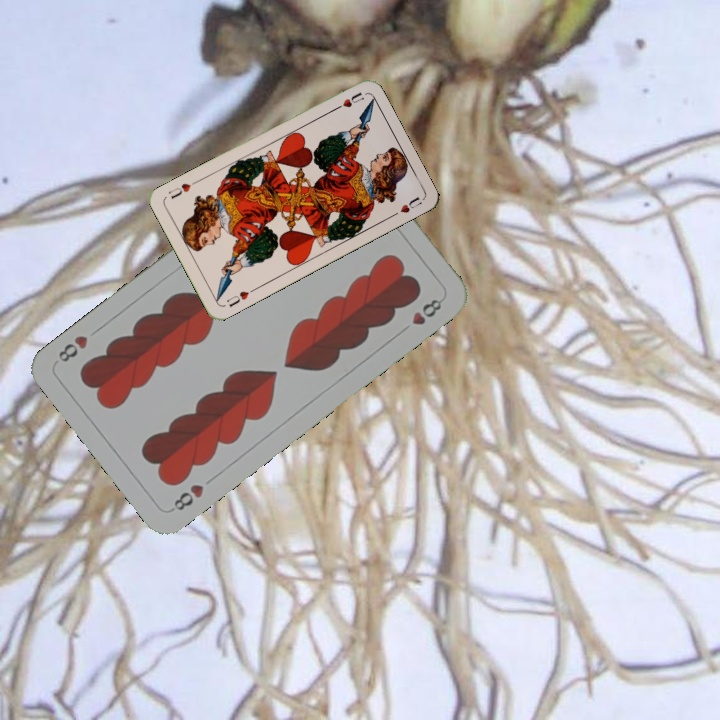H8: (167, 480, 207, 515)
HU: (329, 88, 367, 113), (222, 284, 258, 310)
